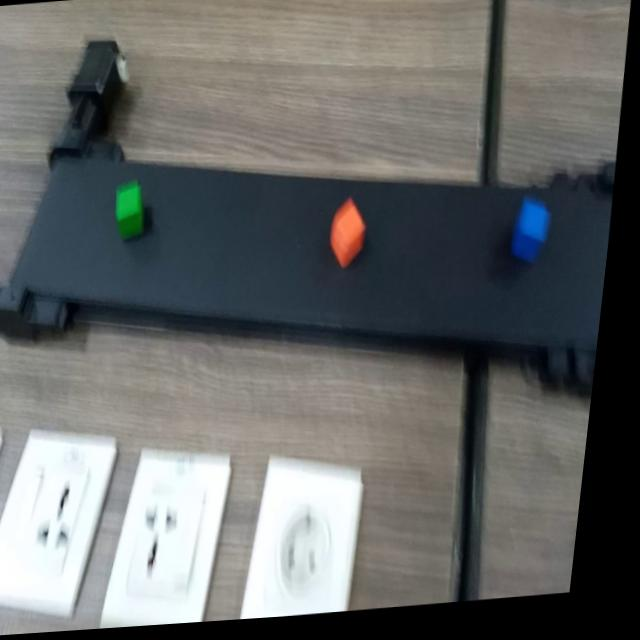cube: (508, 192, 566, 274), (106, 174, 158, 245)
